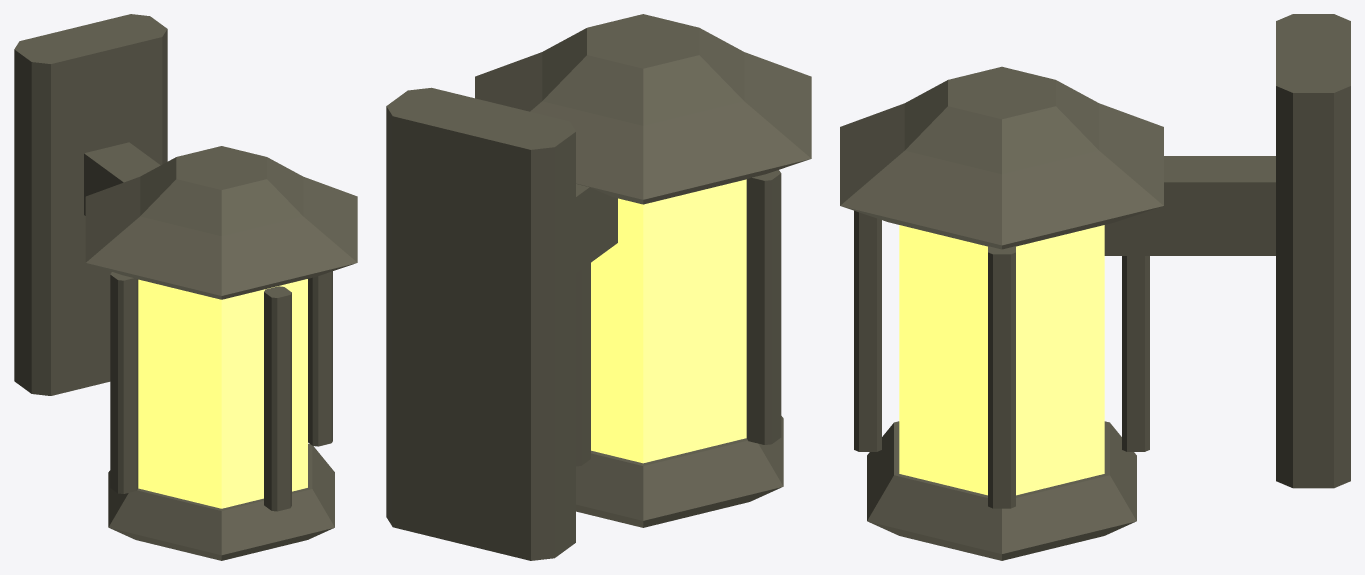
The model's file is wall_lantern.glb.
3 views of the same model, side by side, from view 1: azimuth 30°, elevation 25°; view 2: azimuth 150°, elevation 25°; view 3: azimuth 270°, elevation 25° (orthographic). The views are drawn at different scales.
Parts seen in each view (by area): view 1: wall_lantern_Static, WarmGlass; view 2: wall_lantern_Static, WarmGlass; view 3: wall_lantern_Static, WarmGlass.
Part boxes in pixels (x1,y1,x2,y2): wall_lantern_Static: [14, 14, 357, 560]; WarmGlass: [138, 279, 307, 508]; wall_lantern_Static: [386, 14, 811, 560]; WarmGlass: [591, 179, 746, 463]; wall_lantern_Static: [840, 14, 1350, 560]; WarmGlass: [899, 225, 1104, 495].
Size of the model in its own units: 0.6 by 0.81 by 0.8198.
